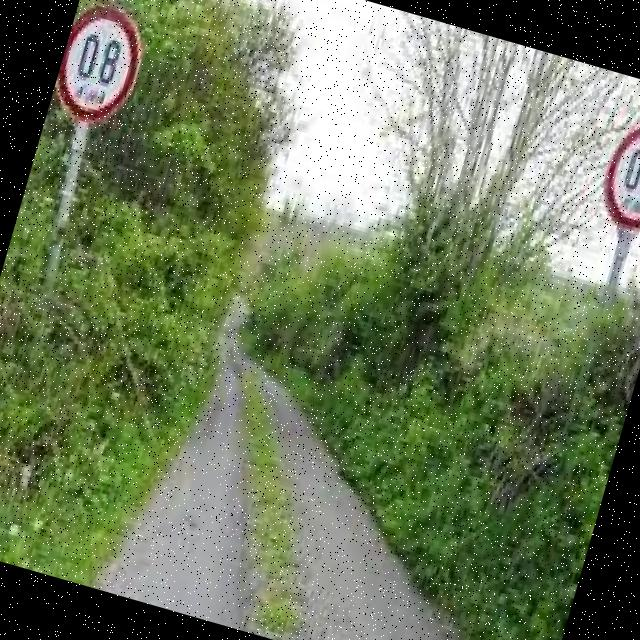speed_limit_80: (46, 0, 161, 136), (591, 107, 640, 240)
